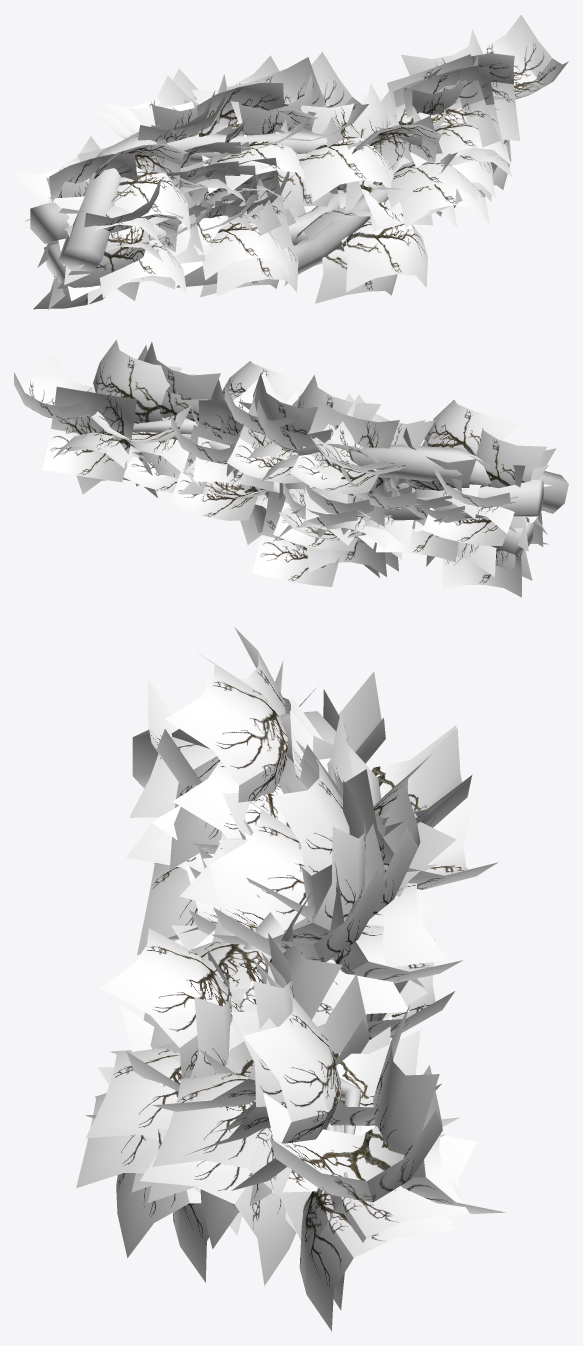
File: Roots.fbx
3 views of the same model, one above another, from view 1: azimuth 30°, elevation 25°; view 2: azimuth 150°, elevation 25°; view 3: azimuth 270°, elevation 25° (orthographic). The views are drawn at different scales.
Parts seen in each view (by area): view 1: Plane.044, Roots; view 2: Plane.044, Roots; view 3: Plane.044, Roots.
Part boxes in pixels (x1,y1,x2,y2): Plane.044: (14, 15, 568, 309); Roots: (30, 90, 525, 282); Plane.044: (14, 339, 556, 597); Roots: (132, 418, 568, 556); Plane.044: (76, 627, 505, 1331); Roots: (132, 697, 381, 1210).
Size of the model in its own units: 3.27 by 1.29 by 1.22.
